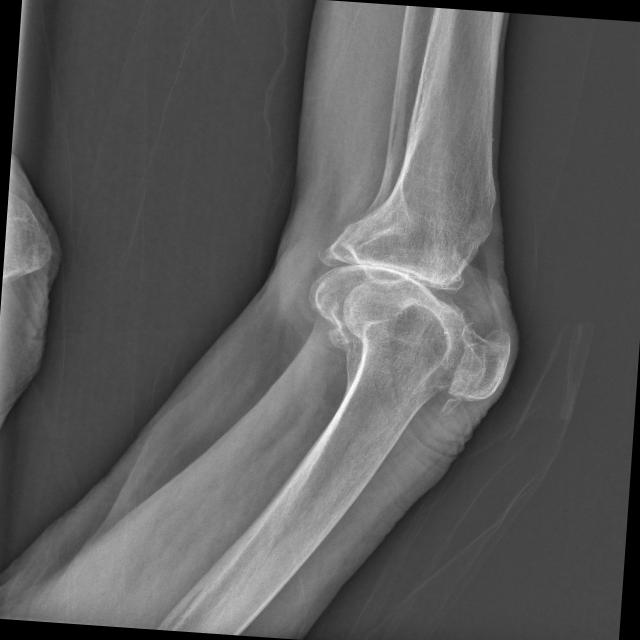Knee: (300, 204, 518, 404)
